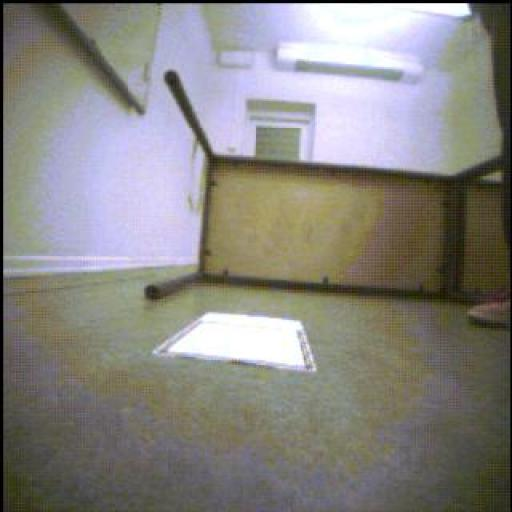Pad: (155, 315, 316, 372)
